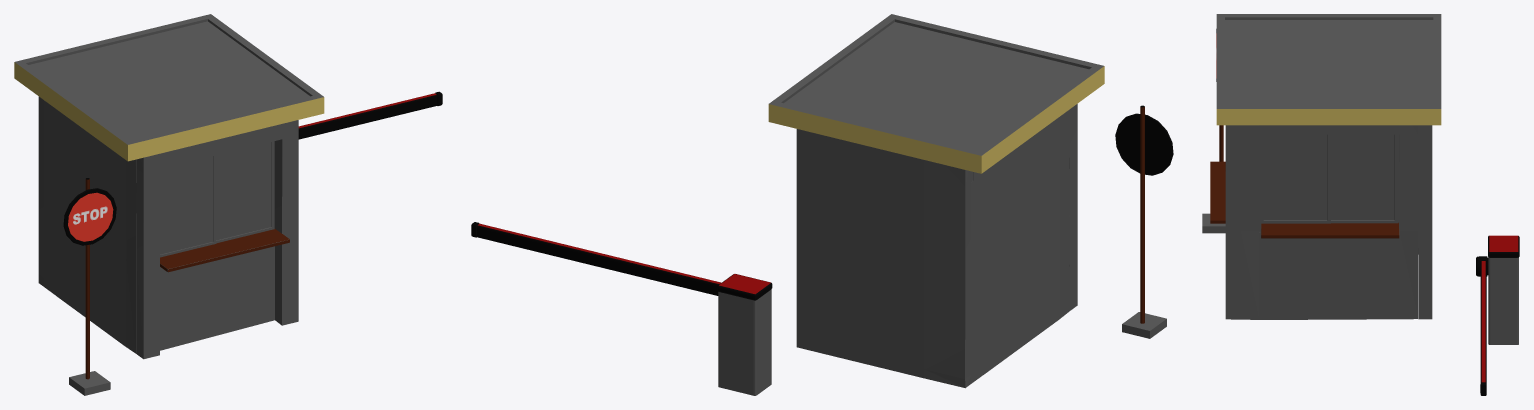
File: security_booth.fbx
3 views of the same model, side by side, from view 1: azimuth 30°, elevation 25°; view 2: azimuth 150°, elevation 25°; view 3: azimuth 270°, elevation 25° (orthographic). The views are drawn at different scales.
Parts seen in each view (by area): view 1: Security Cabin, Stopsign, Road Block; view 2: Security Cabin, Road Block, Stopsign; view 3: Security Cabin, Road Block, Stopsign.
Part boxes in pixels (x1,y1,x2,y2): Security Cabin: (14, 14, 324, 359); Stopsign: (63, 178, 116, 395); Road Block: (298, 91, 442, 139); Security Cabin: (768, 14, 1104, 388); Road Block: (471, 222, 772, 395); Stopsign: (1115, 105, 1173, 338); Security Cabin: (1210, 14, 1441, 319); Road Block: (1476, 235, 1519, 395); Stopsign: (1202, 29, 1225, 233).
Size of the model in its own units: 326 by 142 by 176.
